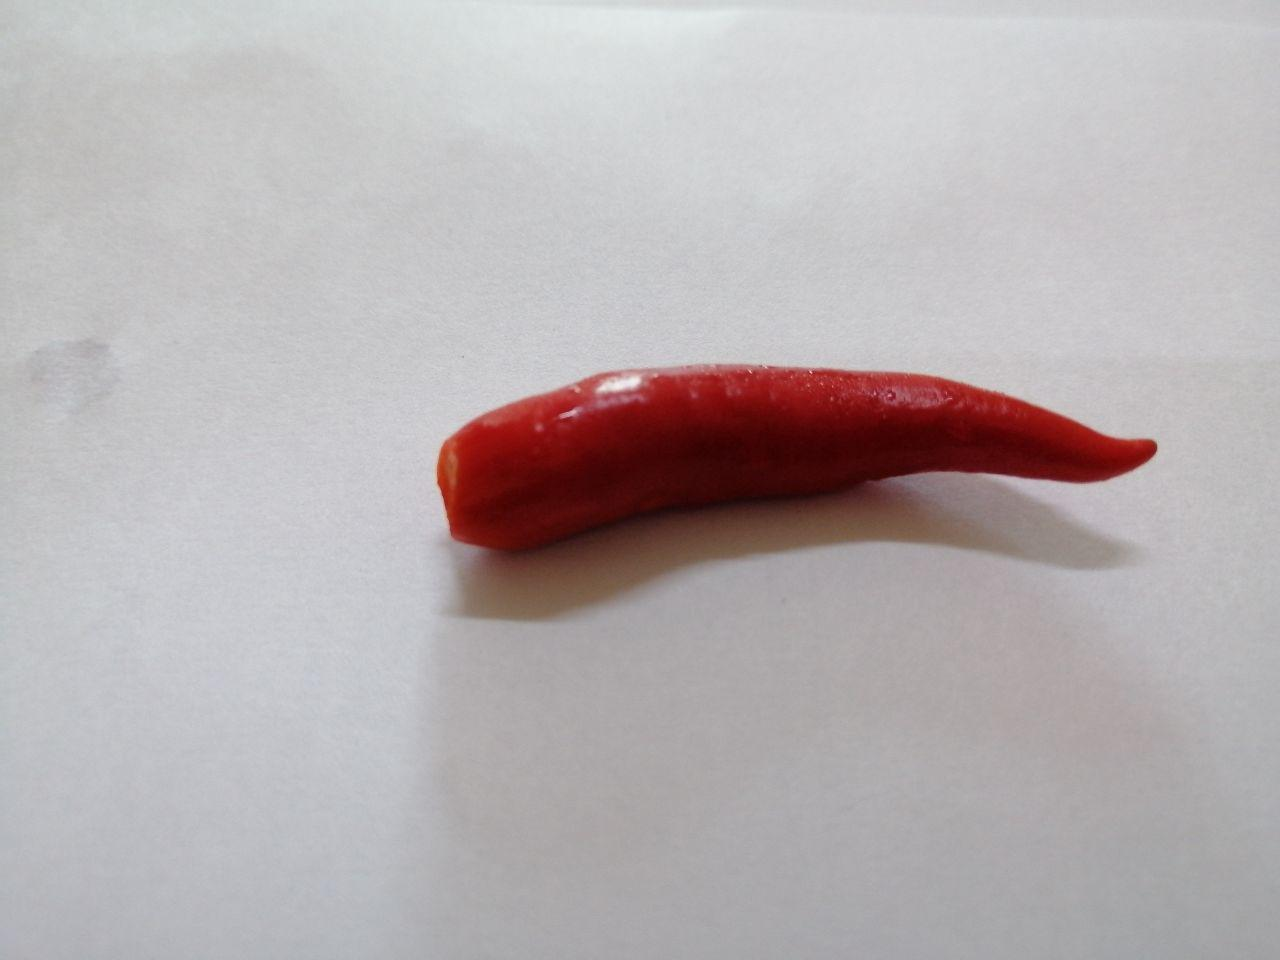lada merah: (410, 343, 1168, 568)
